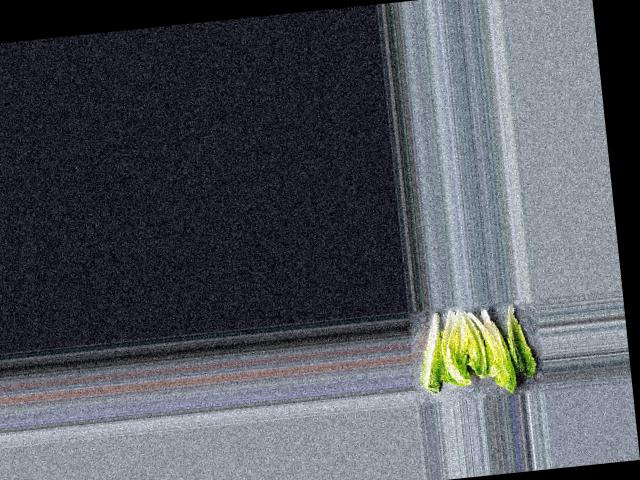lettuce: (502, 300, 535, 378)
